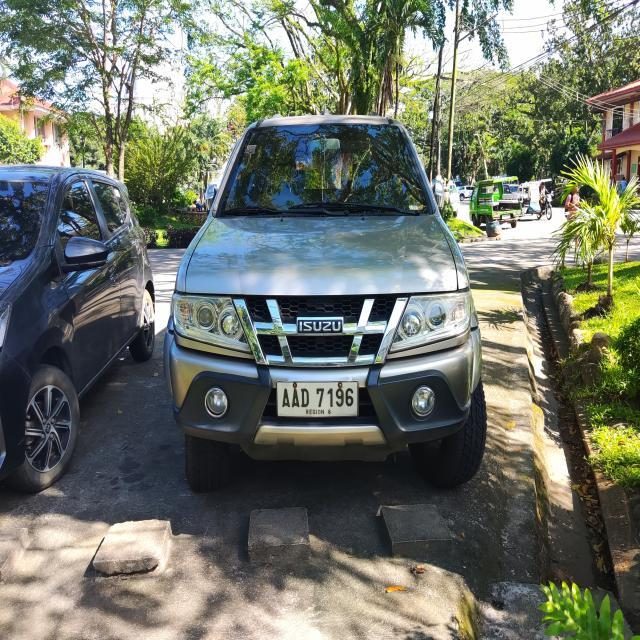LicensePlate: (269, 377, 373, 426)
